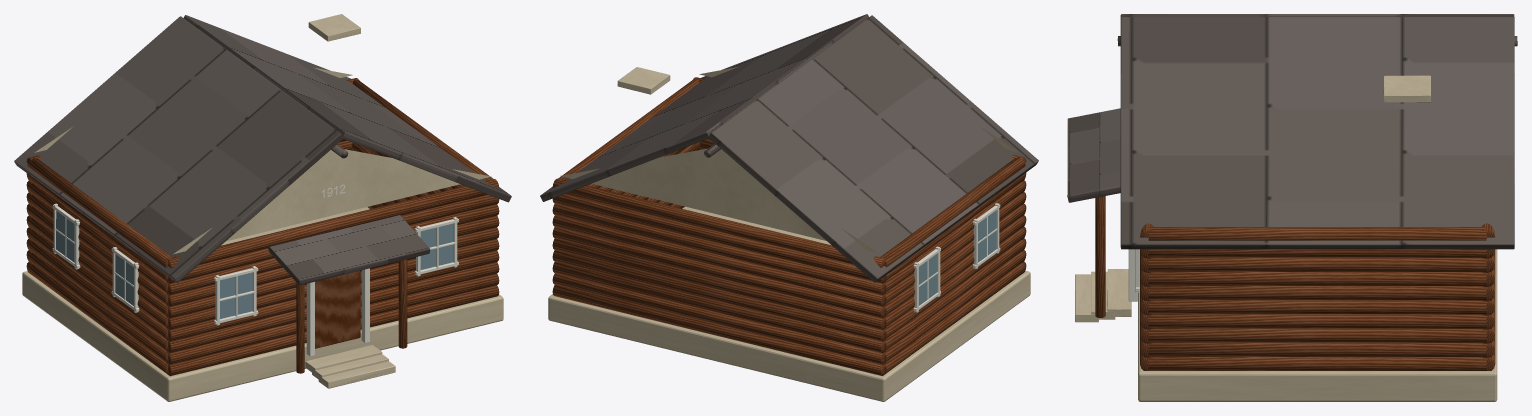
Rendered from Building_Wood_House_01_LOD1.fbx.
3 views of the same model, side by side, from view 1: azimuth 30°, elevation 25°; view 2: azimuth 150°, elevation 25°; view 3: azimuth 270°, elevation 25° (orthographic). The views are drawn at different scales.
Visible parts, largest first — view 1: Building_Wood_House_01_OPT_Merged_ENV_Roof_Iron_OPT_DATA_LOD, Building_Wood_House_01_OPT_Merged_RB_Wood_Walnut_OPT_DATA_LO, Building_Wood_House_01_OPT_Merged_ENV_Plaster_Ochre_OPT_DATA, Building_Wood_House_01_OPT_Merged_ENV_Paint_White_OPT_DATA_L, Building_Wood_House_01_OPT_Merged_ENV_Window_Glass_OPT_DATA_; view 2: Building_Wood_House_01_OPT_Merged_RB_Wood_Walnut_OPT_DATA_LO, Building_Wood_House_01_OPT_Merged_ENV_Roof_Iron_OPT_DATA_LOD, Building_Wood_House_01_OPT_Merged_ENV_Plaster_Ochre_OPT_DATA, Building_Wood_House_01_OPT_Merged_ENV_Paint_White_OPT_DATA_L, Building_Wood_House_01_OPT_Merged_ENV_Window_Glass_OPT_DATA_; view 3: Building_Wood_House_01_OPT_Merged_ENV_Roof_Iron_OPT_DATA_LOD, Building_Wood_House_01_OPT_Merged_RB_Wood_Walnut_OPT_DATA_LO, Building_Wood_House_01_OPT_Merged_ENV_Plaster_Ochre_OPT_DATA, Building_Wood_House_01_OPT_Merged_ENV_Paint_White_OPT_DATA_L.
Boxes of the visible parts, x1=… form: Building_Wood_House_01_OPT_Merged_ENV_Roof_Iron_OPT_DATA_LOD: x1=14, y1=15, x2=511, y2=285; Building_Wood_House_01_OPT_Merged_RB_Wood_Walnut_OPT_DATA_LO: x1=26, y1=78, x2=499, y2=376; Building_Wood_House_01_OPT_Merged_ENV_Plaster_Ochre_OPT_DATA: x1=22, y1=14, x2=503, y2=401; Building_Wood_House_01_OPT_Merged_ENV_Paint_White_OPT_DATA_L: x1=52, y1=184, x2=458, y2=356; Building_Wood_House_01_OPT_Merged_ENV_Window_Glass_OPT_DATA_: x1=56, y1=211, x2=453, y2=318; Building_Wood_House_01_OPT_Merged_RB_Wood_Walnut_OPT_DATA_LO: x1=552, y1=77, x2=1026, y2=375; Building_Wood_House_01_OPT_Merged_ENV_Roof_Iron_OPT_DATA_LOD: x1=540, y1=14, x2=1038, y2=282; Building_Wood_House_01_OPT_Merged_ENV_Plaster_Ochre_OPT_DATA: x1=548, y1=67, x2=1030, y2=401; Building_Wood_House_01_OPT_Merged_ENV_Paint_White_OPT_DATA_L: x1=913, y1=203, x2=1000, y2=312; Building_Wood_House_01_OPT_Merged_ENV_Window_Glass_OPT_DATA_: x1=919, y1=210, x2=996, y2=305; Building_Wood_House_01_OPT_Merged_ENV_Roof_Iron_OPT_DATA_LOD: x1=1067, y1=14, x2=1517, y2=249; Building_Wood_House_01_OPT_Merged_RB_Wood_Walnut_OPT_DATA_LO: x1=1095, y1=196, x2=1495, y2=370; Building_Wood_House_01_OPT_Merged_ENV_Plaster_Ochre_OPT_DATA: x1=1075, y1=75, x2=1497, y2=401; Building_Wood_House_01_OPT_Merged_ENV_Paint_White_OPT_DATA_L: x1=1128, y1=249, x2=1139, y2=301.
Size of what is drawn, in the model's own units: 824 by 546 by 777.
5 materials, 3 textured.
